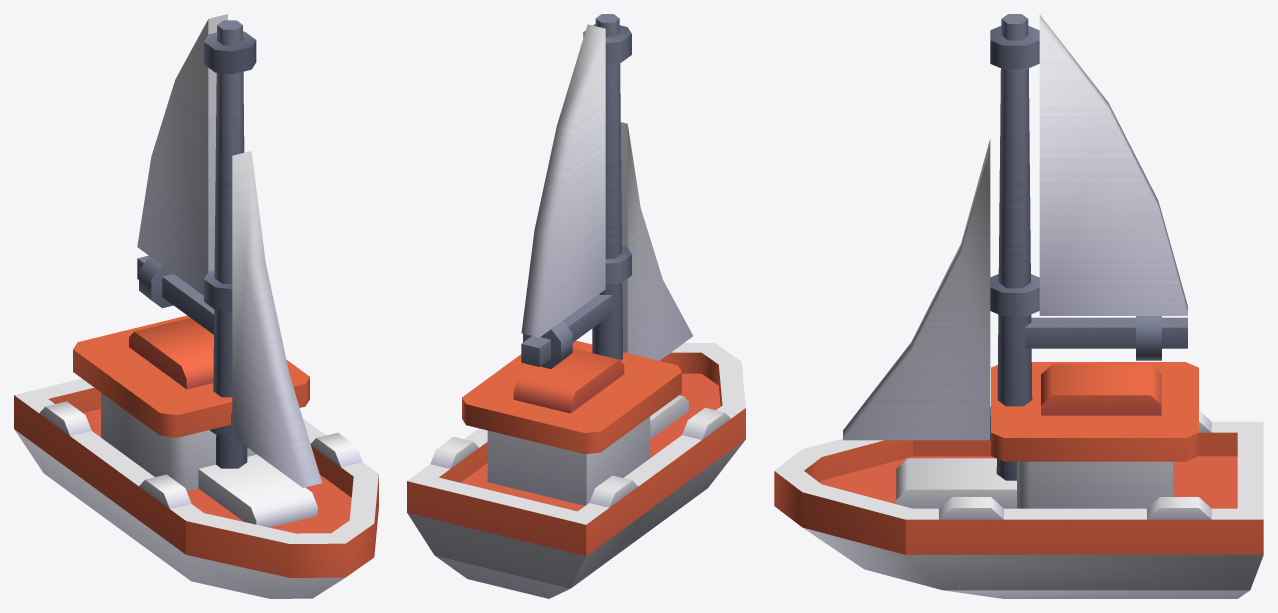
The model's file is boat-sail-a.glb.
3 renders of one model, left to right at view 1: azimuth 30°, elevation 25°; view 2: azimuth 150°, elevation 25°; view 3: azimuth 270°, elevation 25°, orthographic. The views are drawn at different scales.
Parts seen in each view (by area): view 1: boat-sail-a, boat-sail-a.001; view 2: boat-sail-a, boat-sail-a.001; view 3: boat-sail-a, boat-sail-a.001.
Part boxes in pixels (bbox=[...]): boat-sail-a: bbox=[14, 315, 378, 598]; boat-sail-a.001: bbox=[137, 14, 321, 487]; boat-sail-a: bbox=[407, 340, 745, 598]; boat-sail-a.001: bbox=[521, 14, 692, 368]; boat-sail-a: bbox=[774, 362, 1263, 598]; boat-sail-a.001: bbox=[843, 14, 1187, 480].
Bounding box in the file's own units: 6.07 × 16.11 × 12.82.
1 material, 1 textured.
